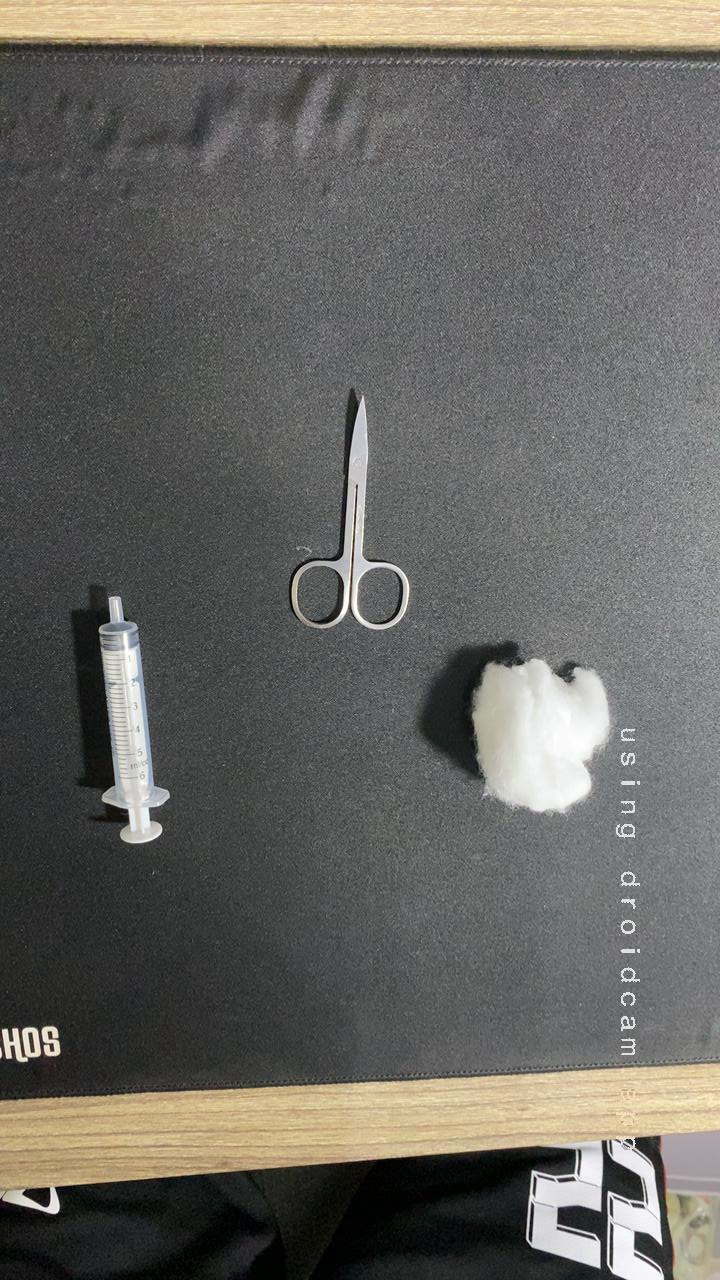cotton: (441, 629, 644, 837)
scissor: (268, 385, 428, 639)
syringe: (61, 582, 192, 859)
